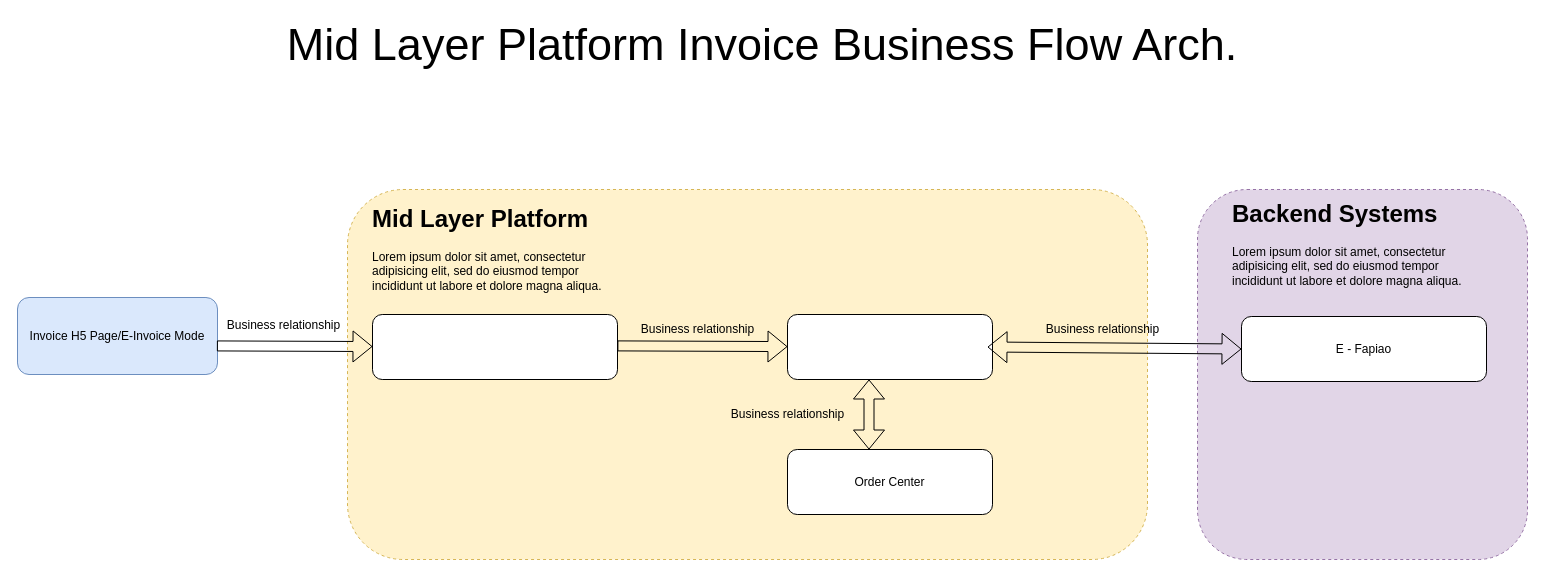
This 1545x577 diagram has some shape labels left out. The shapes that lost their labels are listed below. From the top down, each one's box as (x1, y1, x2, y2) in pixels, then its label:
(372, 314, 618, 380): Common Service Center - API Gate way
(786, 314, 992, 380): Invoice Center
